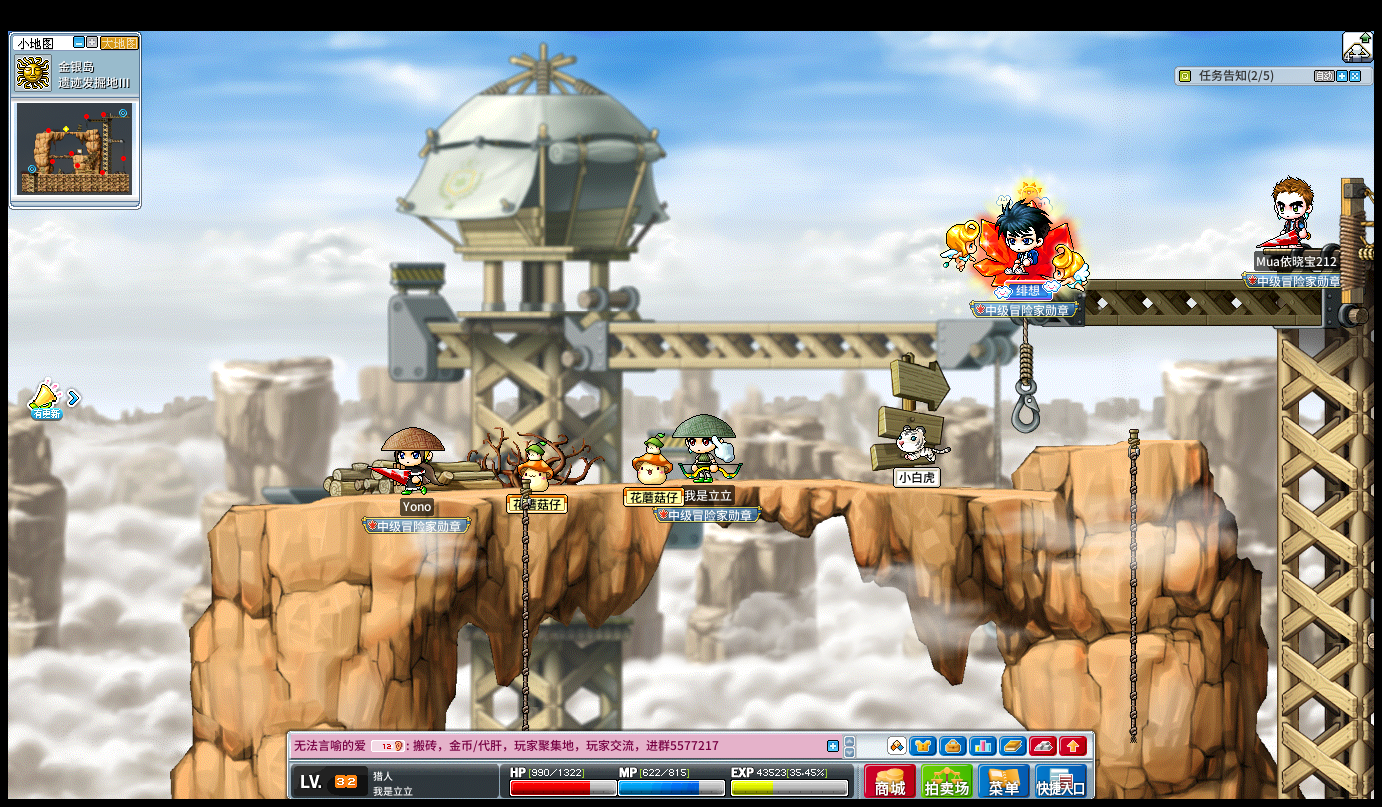floor: (211, 475, 1142, 495), (1034, 437, 1203, 451), (1032, 435, 1202, 448)
rope: (1125, 423, 1141, 767), (1126, 426, 1140, 662), (518, 475, 530, 681), (516, 480, 528, 683)
